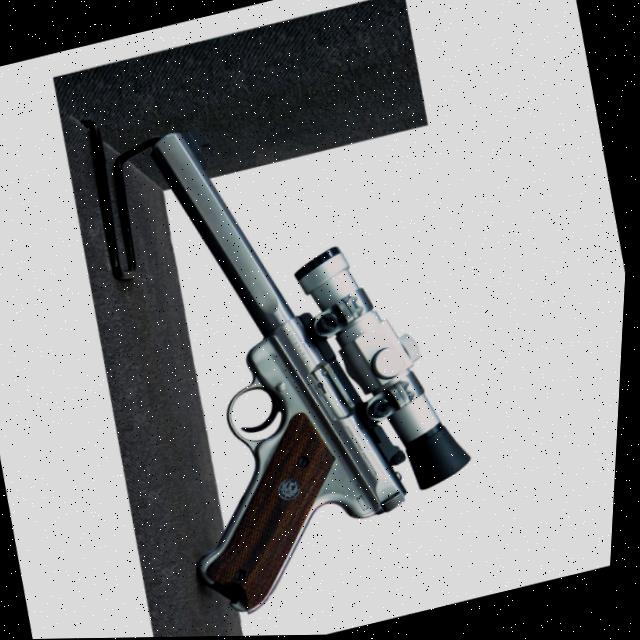pistol: (100, 73, 518, 628)
